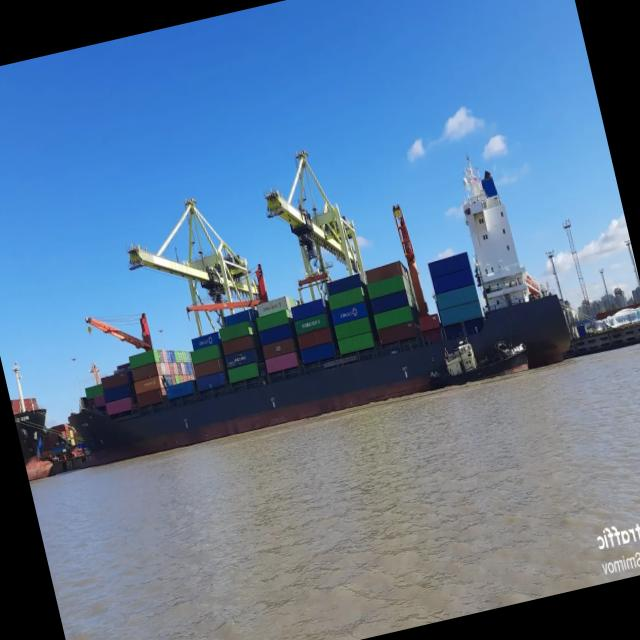Cargo: (73, 171, 570, 461)
Tug: (430, 339, 528, 387)
